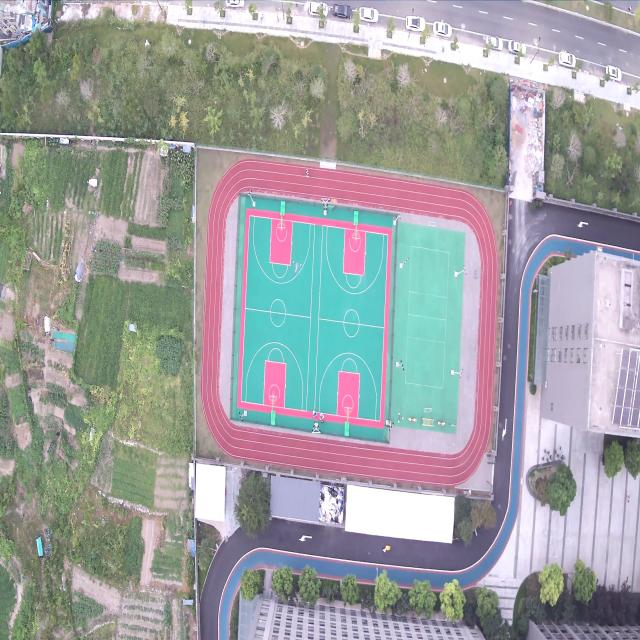UAV: (293, 260, 301, 274)
